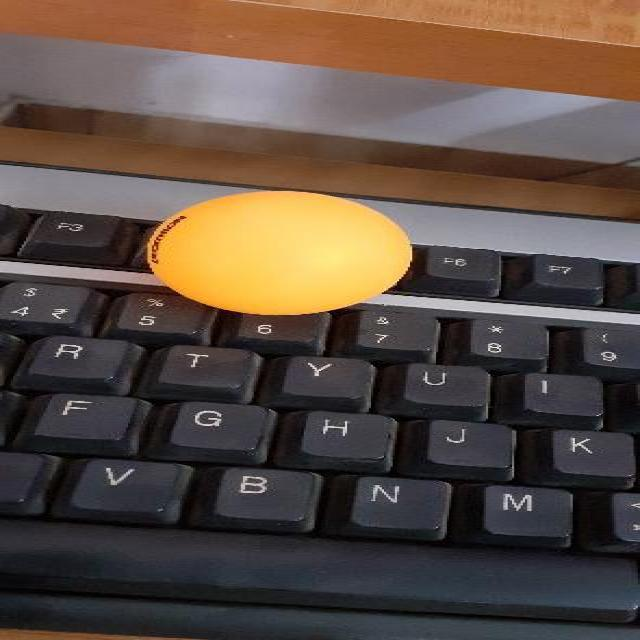oball: (142, 187, 411, 313)
